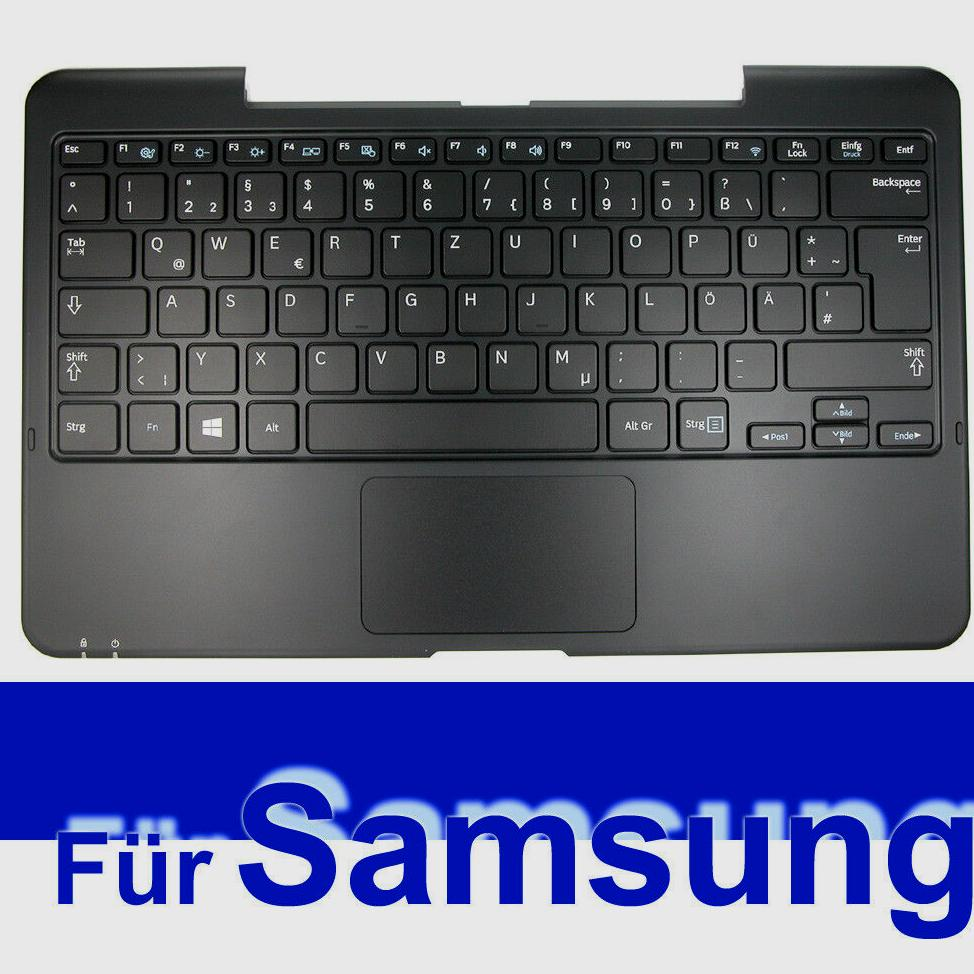0: (647, 166, 701, 217)
1: (112, 169, 163, 219)
2: (171, 168, 224, 219)
3: (230, 168, 283, 219)
4: (290, 167, 342, 218)
5: (349, 167, 402, 218)
6: (409, 167, 462, 218)
7: (470, 167, 523, 218)
8: (529, 167, 581, 217)
9: (588, 166, 641, 217)
a: (153, 283, 205, 333)
accent: (766, 165, 817, 216)
ae: (750, 279, 803, 330)
alt-left: (243, 399, 297, 451)
altgr-right: (603, 396, 668, 448)
b: (421, 338, 476, 391)
c: (302, 339, 356, 391)
caret: (55, 169, 104, 219)
comma: (601, 337, 655, 388)
d: (272, 282, 325, 333)
del: (825, 166, 929, 216)
e: (257, 224, 311, 276)
enter: (854, 222, 931, 331)
f: (332, 282, 385, 333)
g: (392, 281, 445, 333)
h: (452, 281, 505, 333)
hash: (809, 279, 860, 330)
i: (557, 223, 609, 274)
j: (512, 281, 565, 332)
k: (572, 280, 625, 332)
keyboard: (36, 118, 951, 466)
l: (632, 280, 684, 331)
less: (123, 339, 176, 391)
m: (541, 338, 596, 391)
minus: (721, 337, 774, 387)
n: (482, 338, 536, 390)
o: (615, 222, 669, 274)
oe: (691, 280, 743, 331)
p: (675, 223, 727, 274)
plus: (793, 222, 845, 272)
point: (662, 337, 715, 387)
q: (138, 225, 192, 277)
r: (317, 224, 371, 276)
s: (212, 282, 265, 333)
shift-left: (52, 341, 116, 391)
shift-lock: (54, 283, 146, 334)
shift-right: (780, 336, 932, 387)
space: (302, 396, 598, 451)
ss: (706, 165, 758, 216)
strg-left: (50, 398, 117, 451)
strg-right: (673, 395, 728, 448)
t: (377, 223, 431, 275)
tab: (54, 225, 131, 277)
u: (496, 222, 549, 275)
ue: (734, 222, 787, 273)
v: (362, 339, 416, 391)
w: (198, 224, 250, 276)
x: (242, 339, 296, 391)
y: (183, 340, 236, 391)
z: (437, 223, 490, 276)
